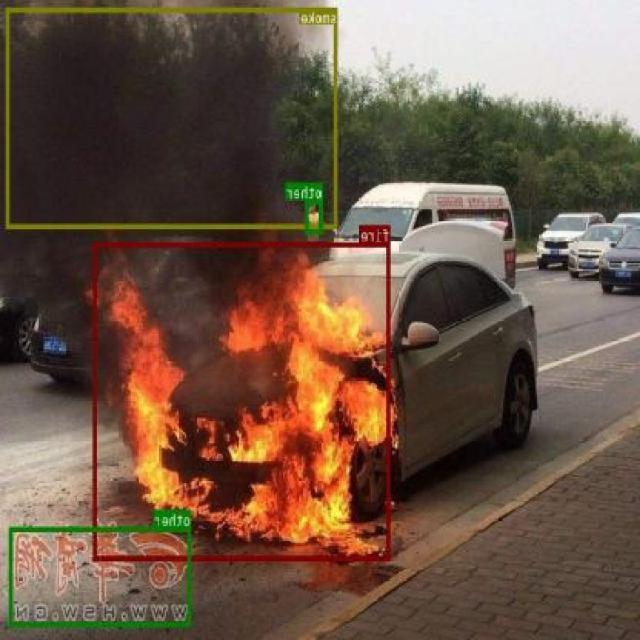Fire: (94, 240, 391, 560)
Smoke: (7, 7, 338, 228)
